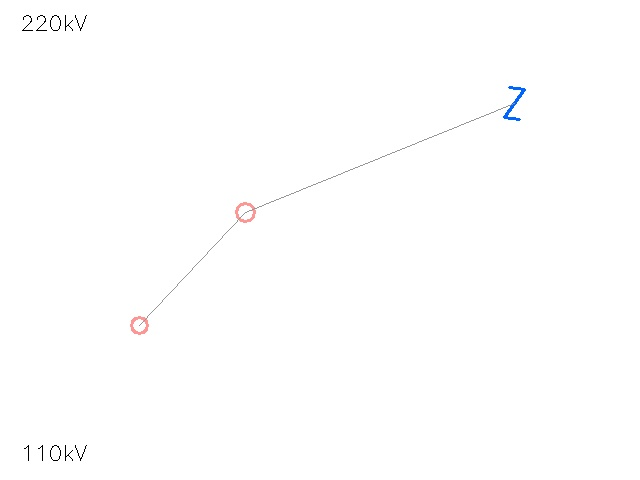circuit_breaker: (497, 86, 531, 120)
disconnect_switch: (226, 193, 264, 231), (123, 309, 155, 341)
